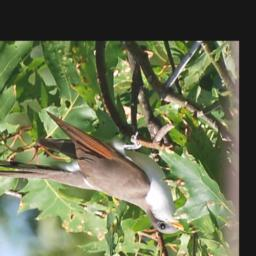Cuckoo: (0, 111, 184, 235)
